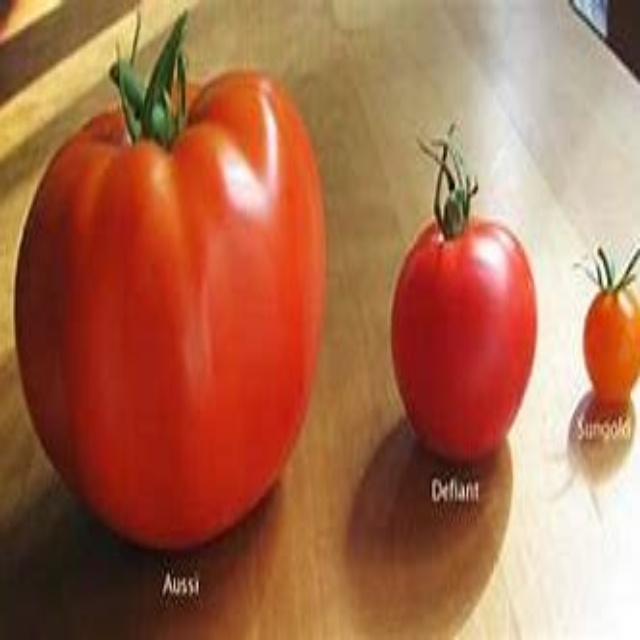tomato: (8, 72, 319, 551), (376, 191, 547, 485), (580, 253, 639, 406)
